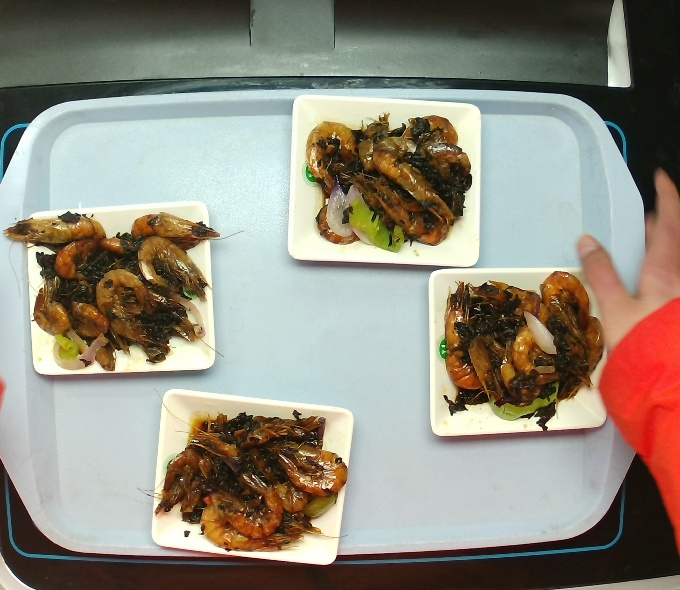wcq-GanCaiXia: (18, 211, 215, 369), (151, 407, 353, 557), (438, 273, 600, 425), (301, 108, 470, 246)
